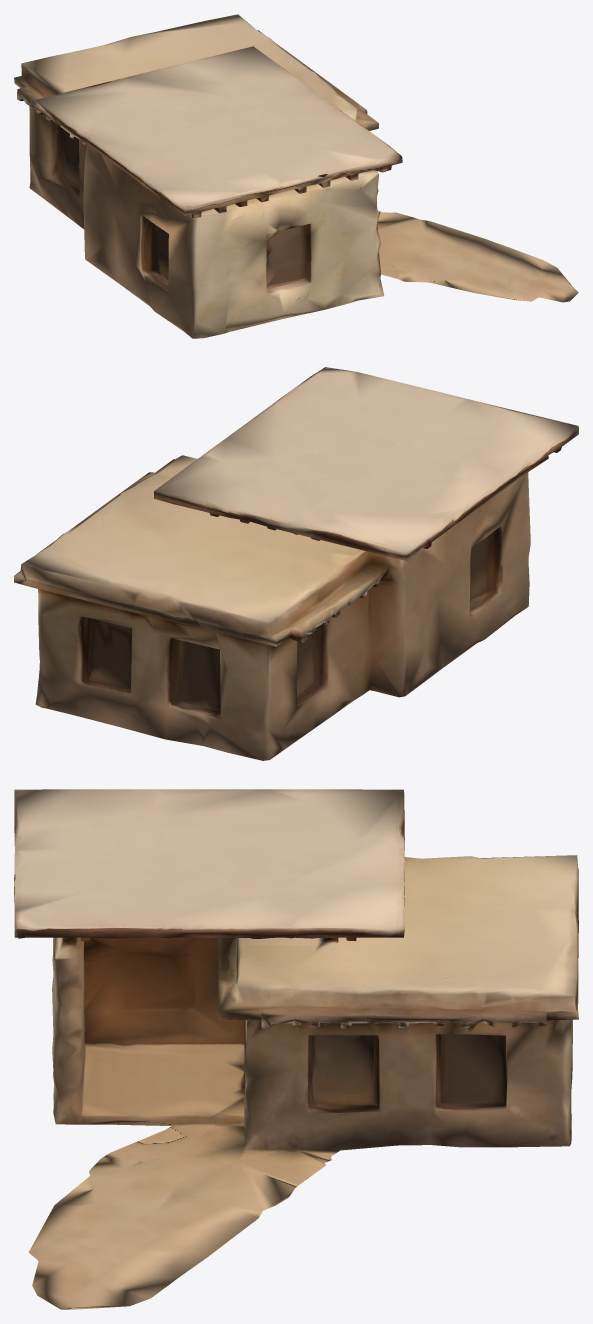
The model's file is haus_wueste.glb.
3 renders of one model, top to bottom at view 1: azimuth 30°, elevation 25°; view 2: azimuth 150°, elevation 25°; view 3: azimuth 270°, elevation 25°, orthographic. The views are drawn at different scales.
Visible parts, largest first — view 1: tripo_node_31dba7a0-8adb-408a-9c40-59c7ac21ebd5; view 2: tripo_node_31dba7a0-8adb-408a-9c40-59c7ac21ebd5; view 3: tripo_node_31dba7a0-8adb-408a-9c40-59c7ac21ebd5.
Part boxes in pixels (x1=…): tripo_node_31dba7a0-8adb-408a-9c40-59c7ac21ebd5: x1=14, y1=14, x2=578, y2=338; tripo_node_31dba7a0-8adb-408a-9c40-59c7ac21ebd5: x1=14, y1=367, x2=578, y2=760; tripo_node_31dba7a0-8adb-408a-9c40-59c7ac21ebd5: x1=14, y1=789, x2=578, y2=1309.
Bounding box in the file's own units: 0.9998 × 0.4533 × 0.8992.
Materials: 1 (1 with a texture image).
